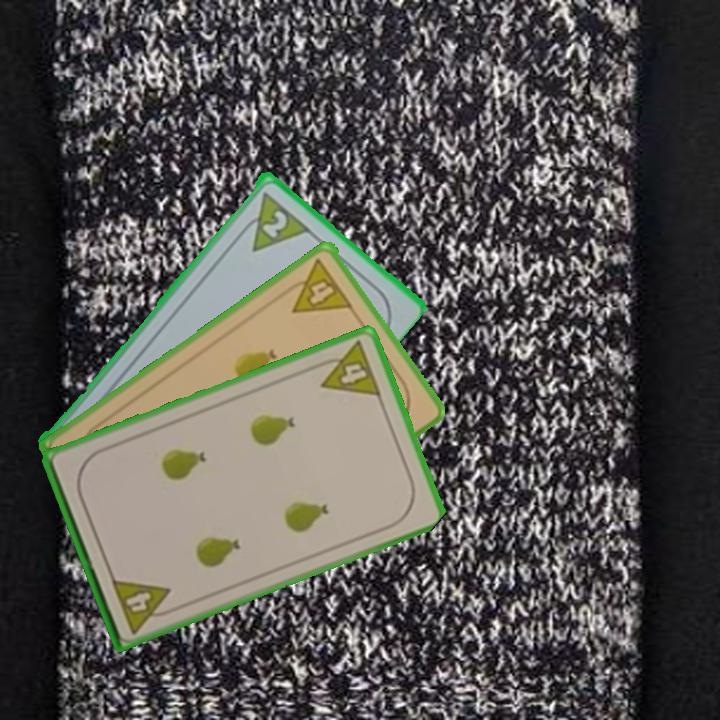2p: (258, 205, 291, 241)
4p: (278, 255, 356, 316), (310, 337, 384, 400), (107, 574, 179, 636)
